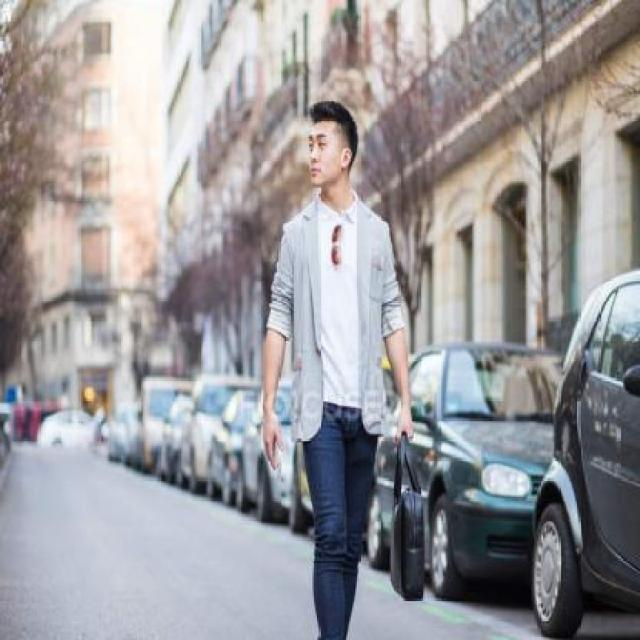sem_oculos: (304, 132, 366, 160)
